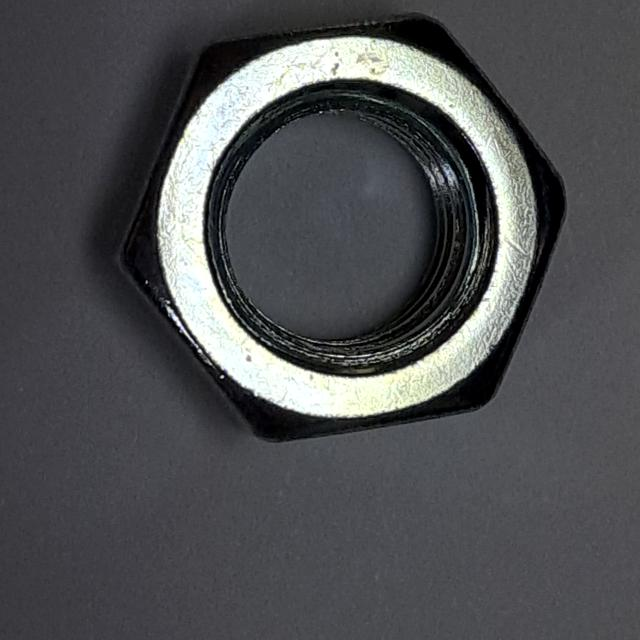Excellent: (83, 1, 579, 461)
